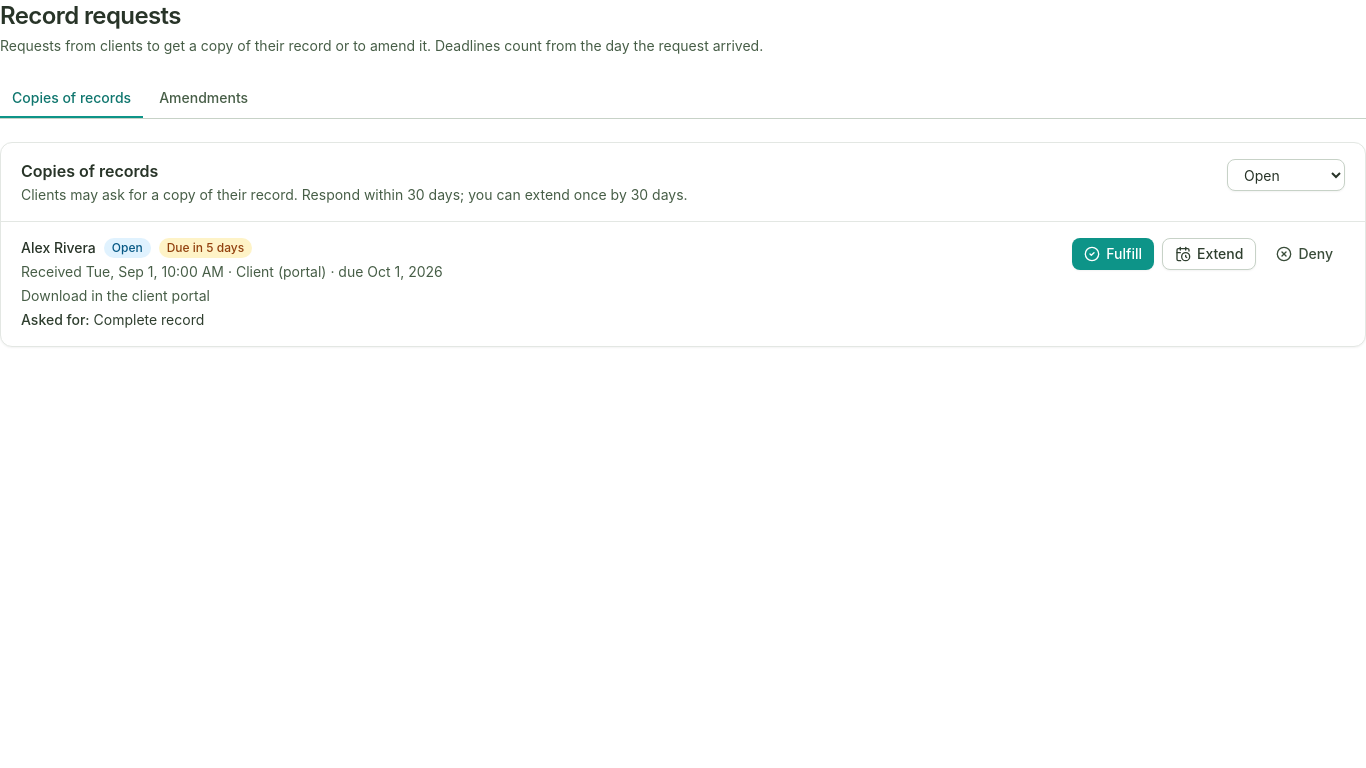
it: copies of records › releases a portal request with or without billing records
Click the button "Fulfill". click: click(1113, 254)
box: [1072,238,1154,270]
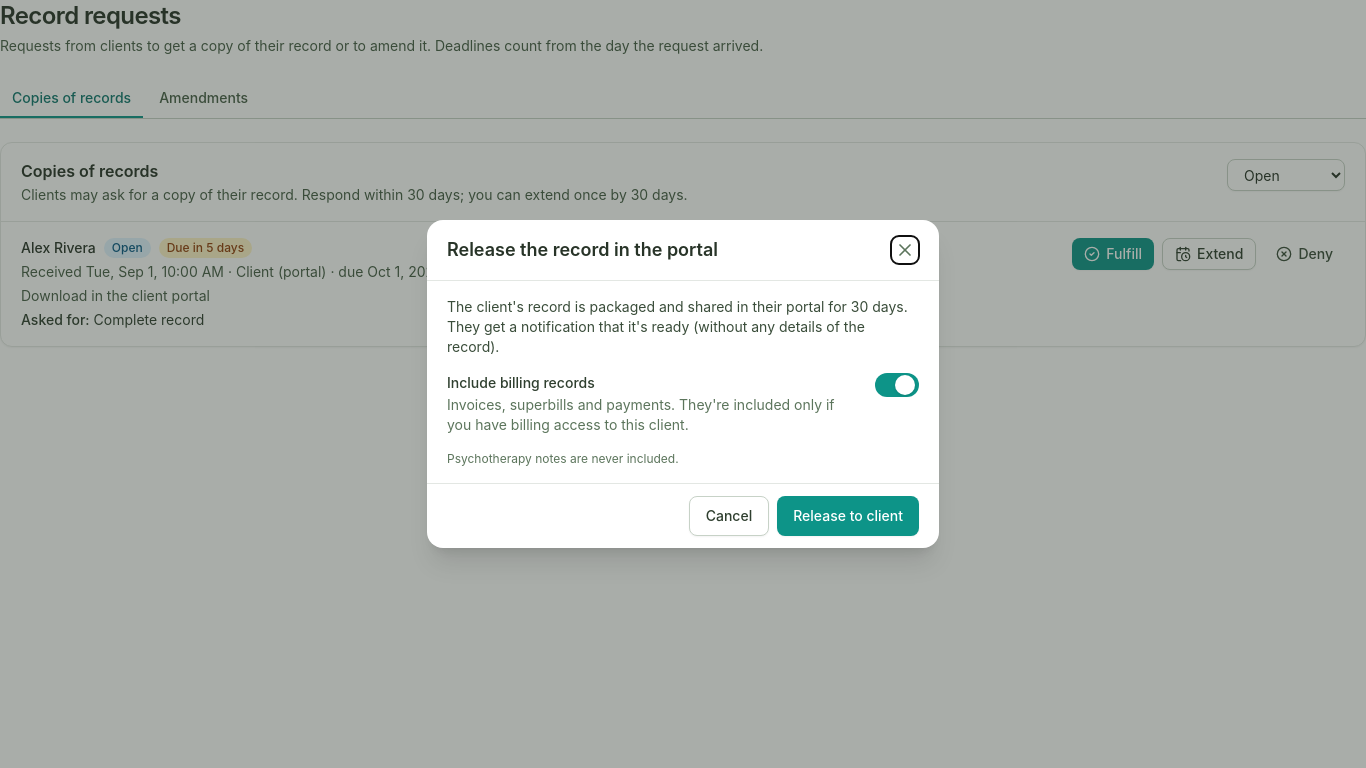
Click the switch named "Include billing records". click: click(897, 385)
box: [875,373,919,397]
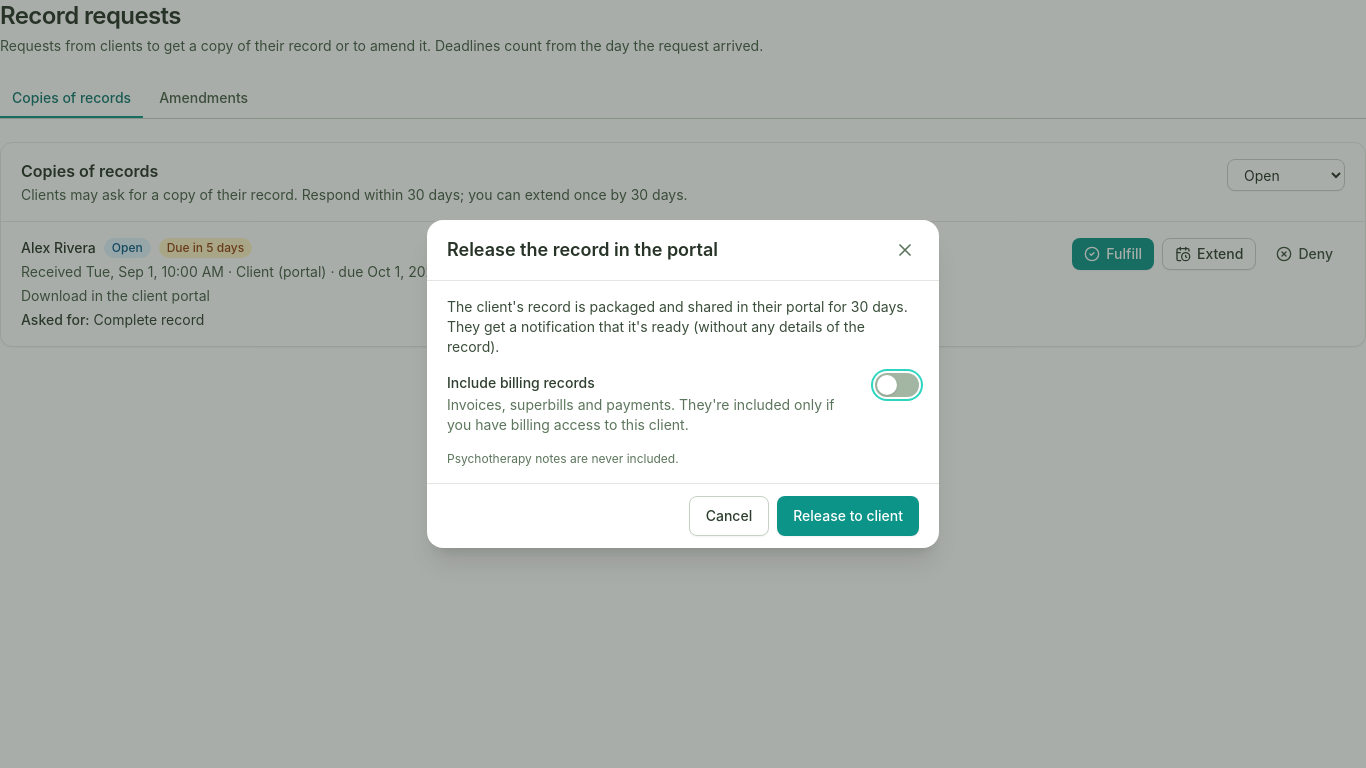
Click the button "Release to client". click: click(848, 516)
box: [777,496,919,536]
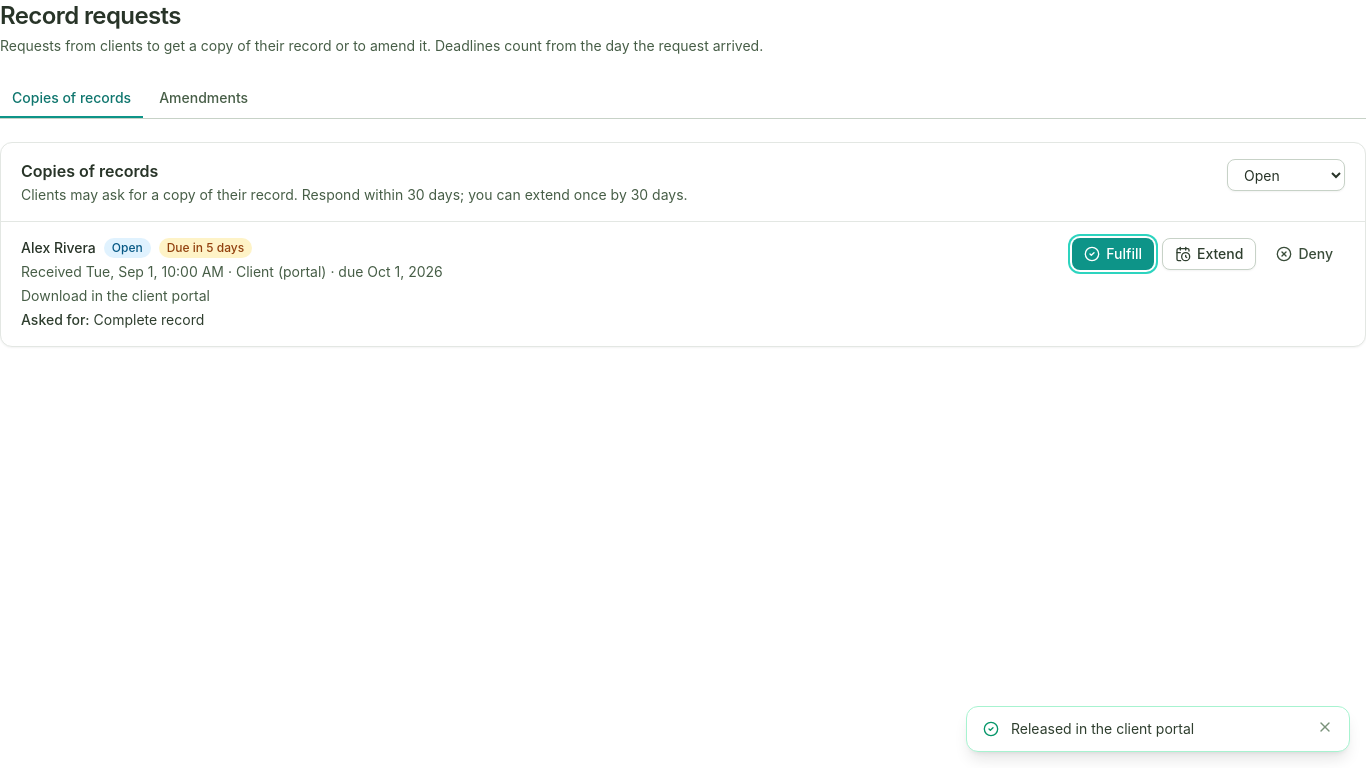
Expected: the text "Released in the client portal" is shown, [1011,720,1194,737]
